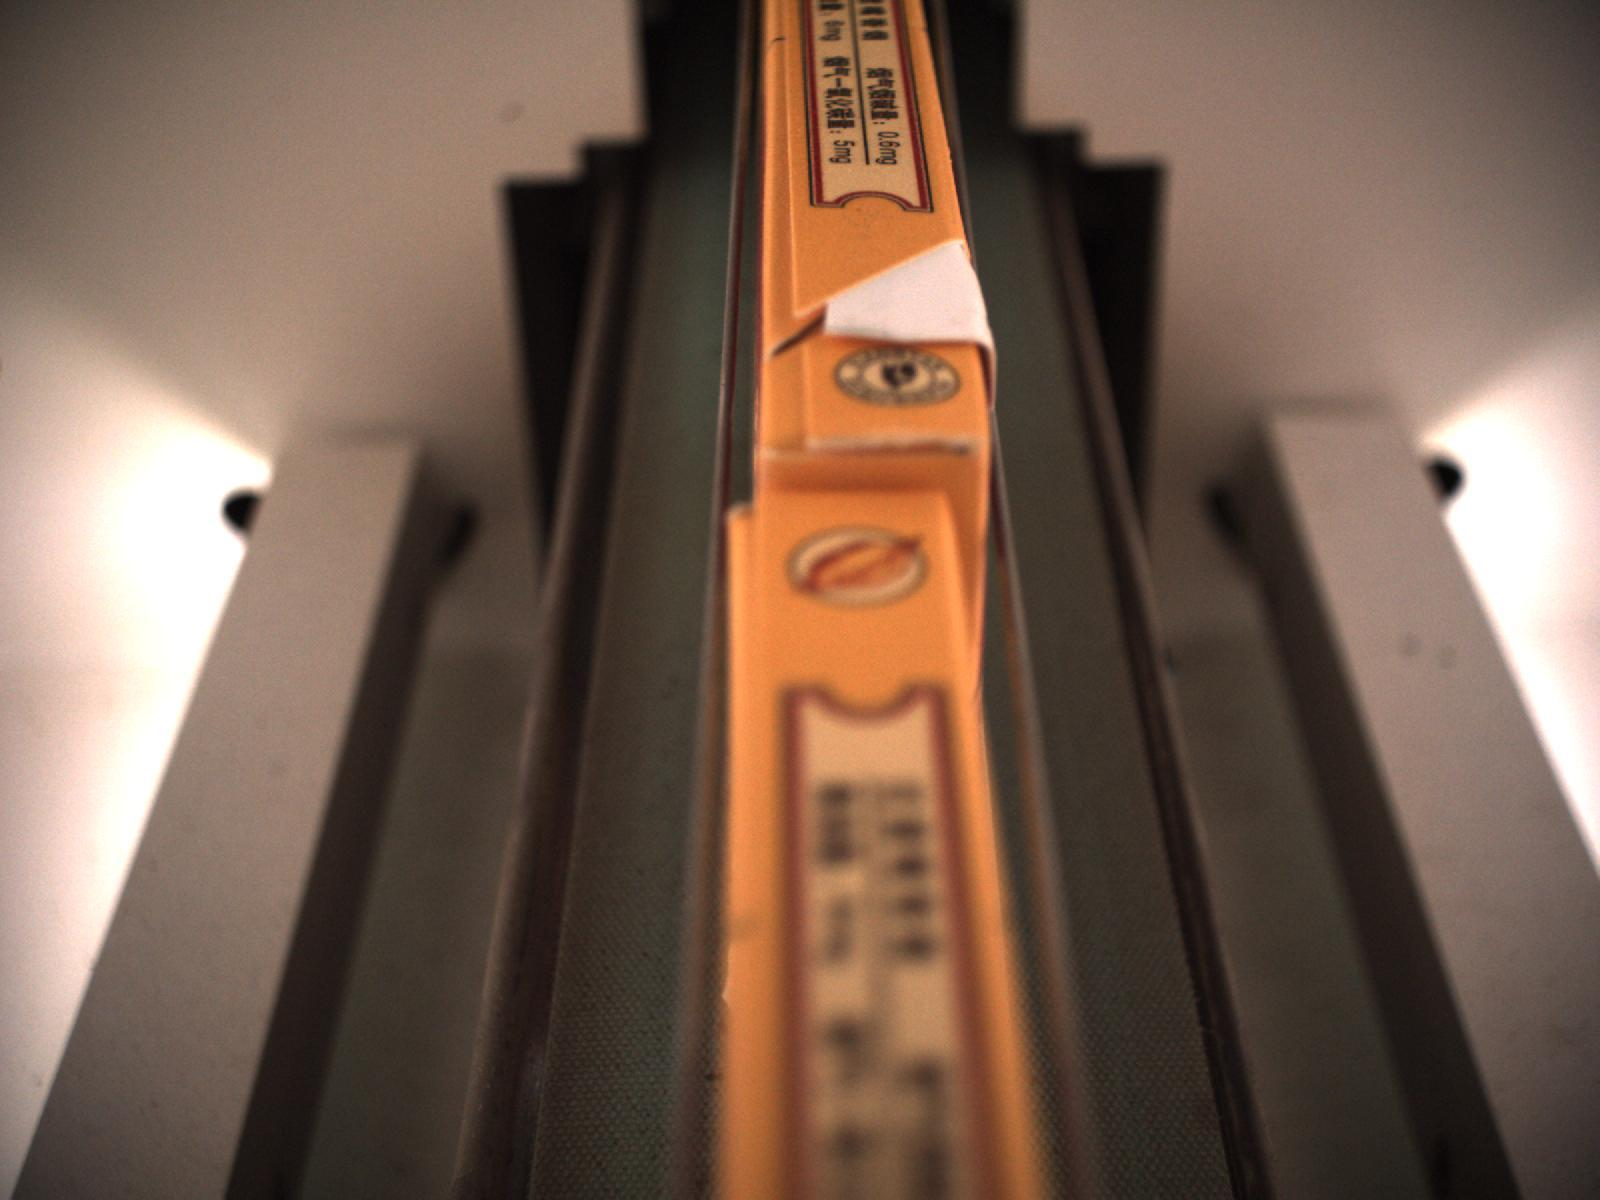frame: (819, 236, 993, 347)
headDamage_upper_2: (759, 345, 989, 471)
skewed_upper_2: (760, 26, 818, 353)
